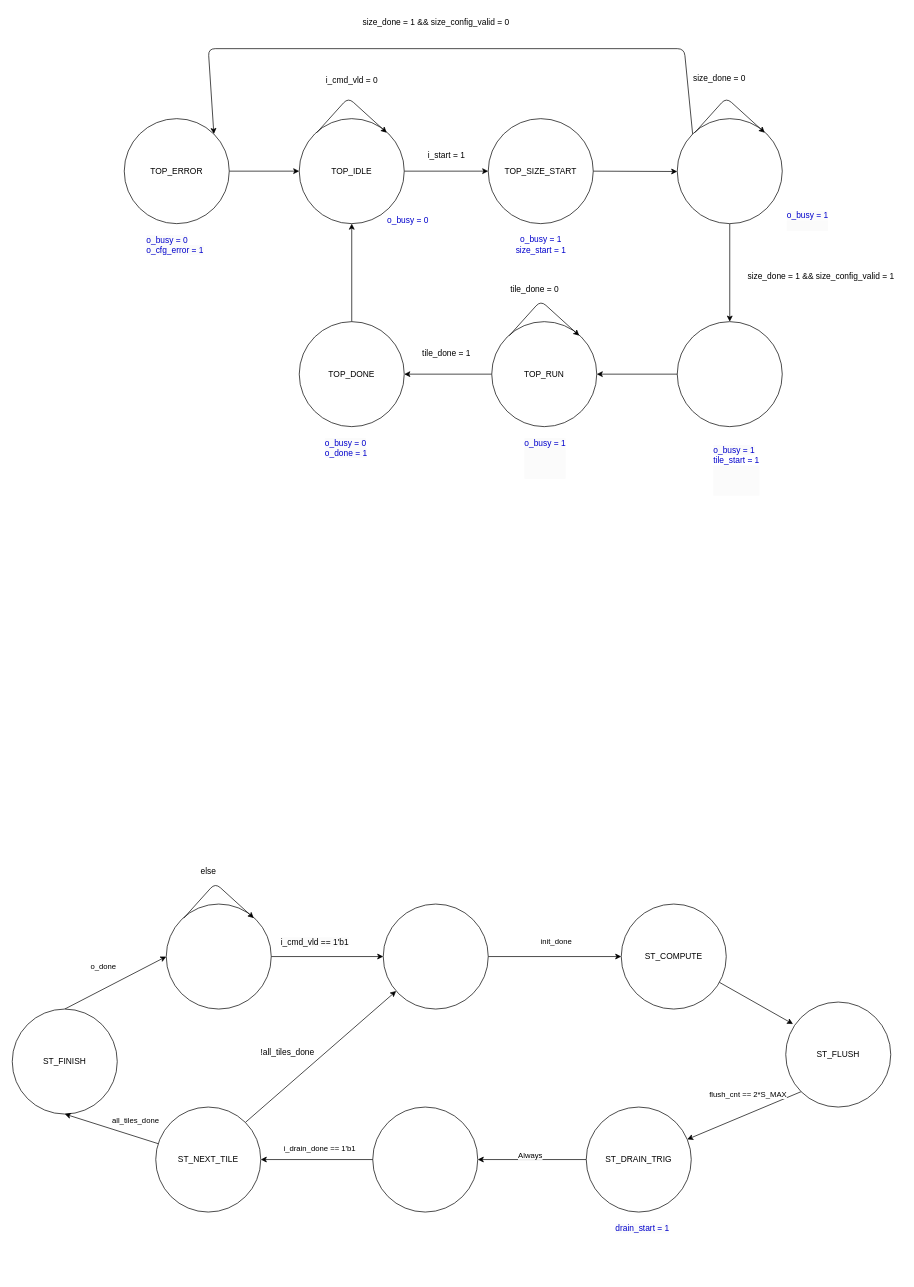
Image size: 914x1287. Some labels were removed from this diagram. The centre of each missing label's shape, as x and y in pixels:
ST_DRAIN_WAIT: point 425,1159
ST_IDLE: point 218,956
ST_INIT_TILE: point 435,956
TOP_SIZE_WAIT: point 729,171
TOP_TILE_START: point 729,374
